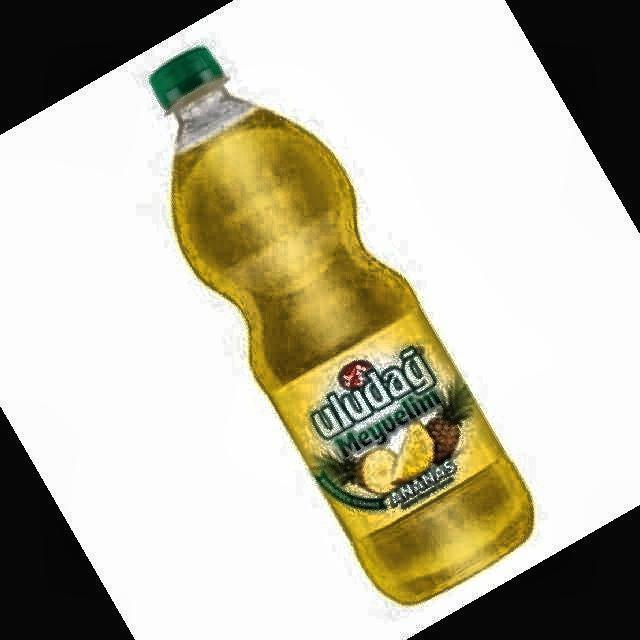plastic: (151, 51, 532, 603)
